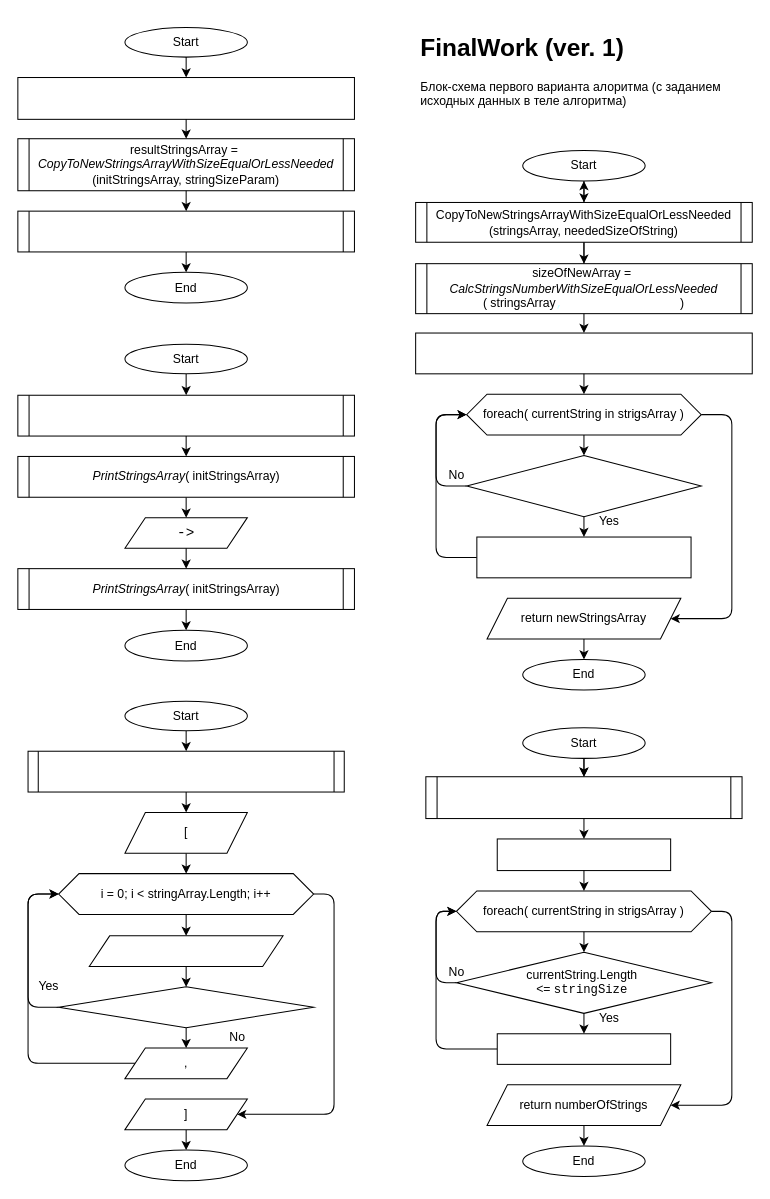
Some shapes in this 770 by 1199 pixel diagram are drawn without their labels. Each missing label, with the centre of its shape:
"stringArray[ i ]": [185,950]
CalcStringsNumberWithSizeEqualOrLessNeeded ( stringsArray , stringSize ): [583,797]
currentString .Length <= stringSizeParam: [583,485]
i == stringArray.Length - 1: [186,1007]
initStringsArray = ["hello", "2", "world", ":-)"] stringSizeParam = 3: [185,97]
newStringsArray = new string[ sizeOfNewArray ] j = 0;: [583,353]
newStringsArray[ j ] = currentString j++: [583,557]
numberOfStrings = 0;: [583,854]
numberOfStrings++: [583,1048]
PrintStringsArray( stringArray ): [185,771]
PrintTwoStringsArrays ( initStringsArray , resultStringsArray ): [185,231]
PrintTwoStringsArrays( initStringsArray , resultStringsArray ): [185,415]
